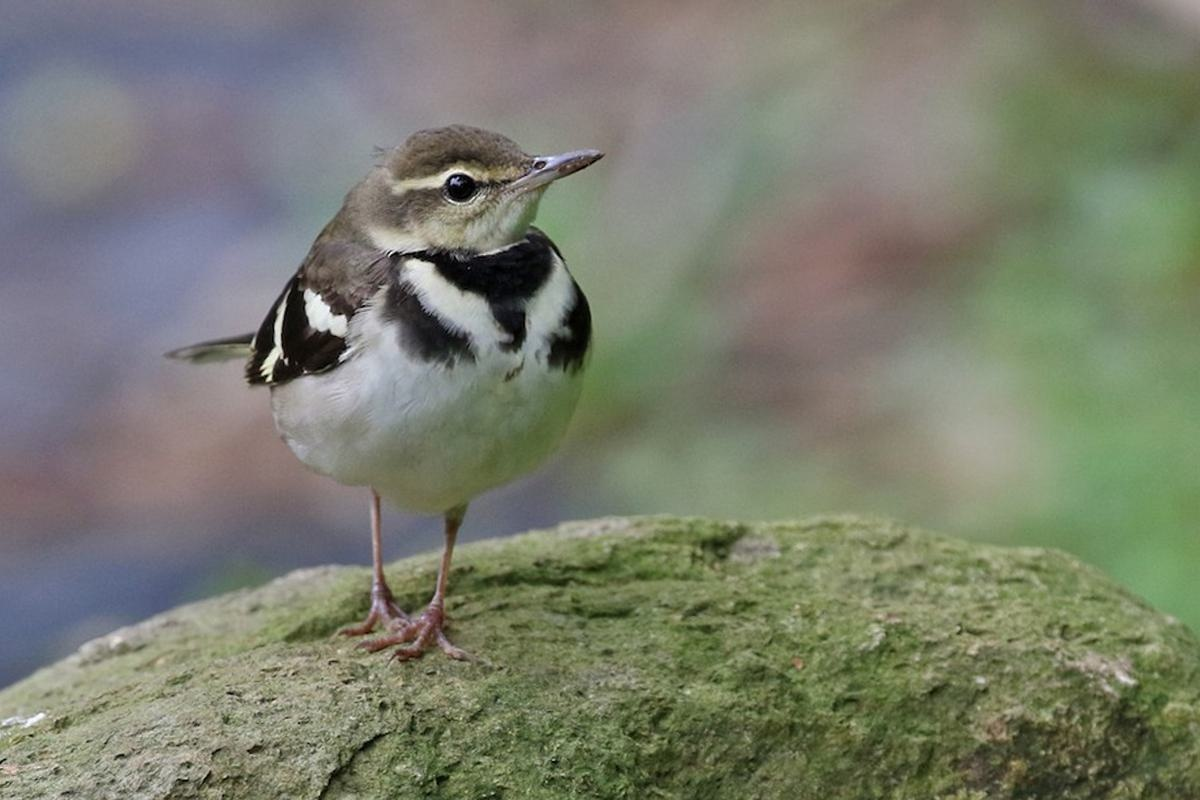wagtail: (275, 117, 659, 565)
